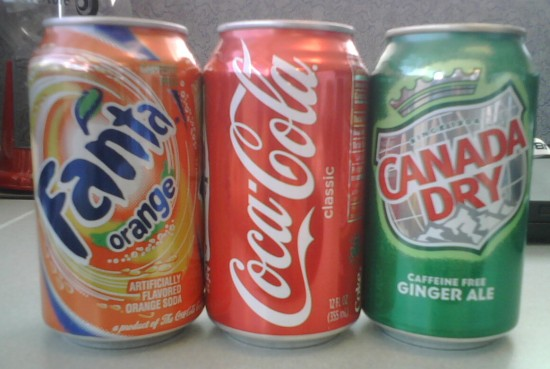Lata: (367, 18, 540, 354)
